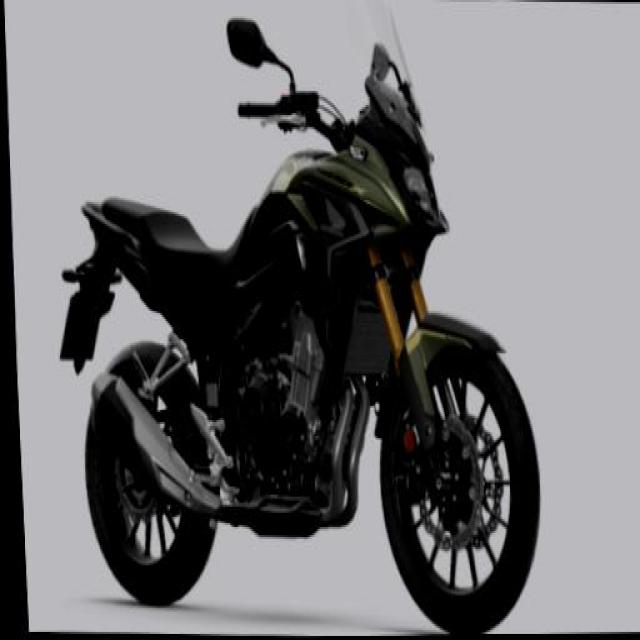CB500X: (59, 0, 546, 638)
